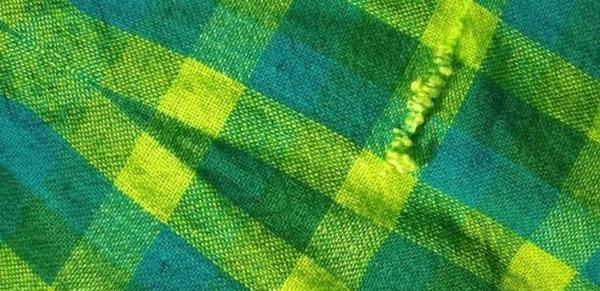knot: (380, 13, 482, 177)
